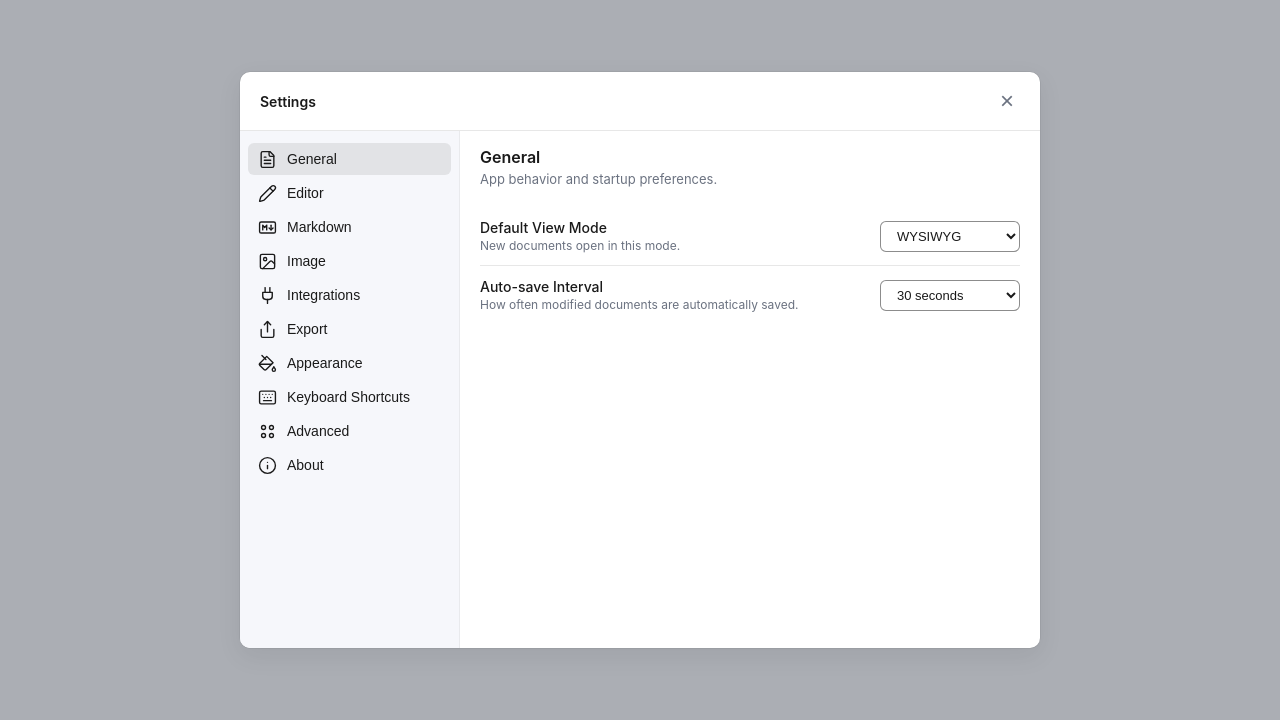
Test: WI-10 the server toggle goes through mcp_set_server_enabled › T-4 config_unreadable reverts the toggle and shows the unreadable note, with no toast
What coordinates should you click on to do the following:
click the button "Integrations"
I would click on:
 (350, 295)
Its box is [248,279,451,311].
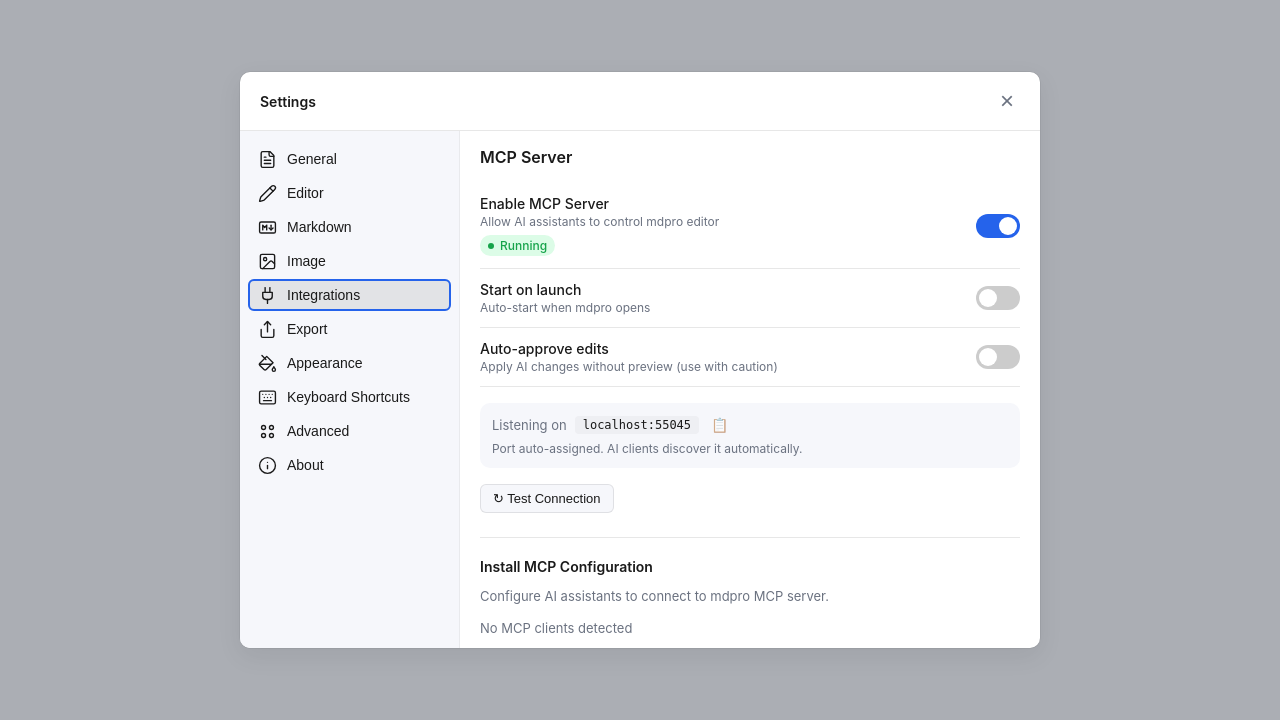
Check: the switch labelled "Enable MCP Server" is enabled
Check: the message "Running" is shown, box [480,235,555,256]
What coordinates should you click on to do the following:
click the switch labelled "Enable MCP Server"
I would click on:
 (998, 226)
Its box is [976,214,1020,238].
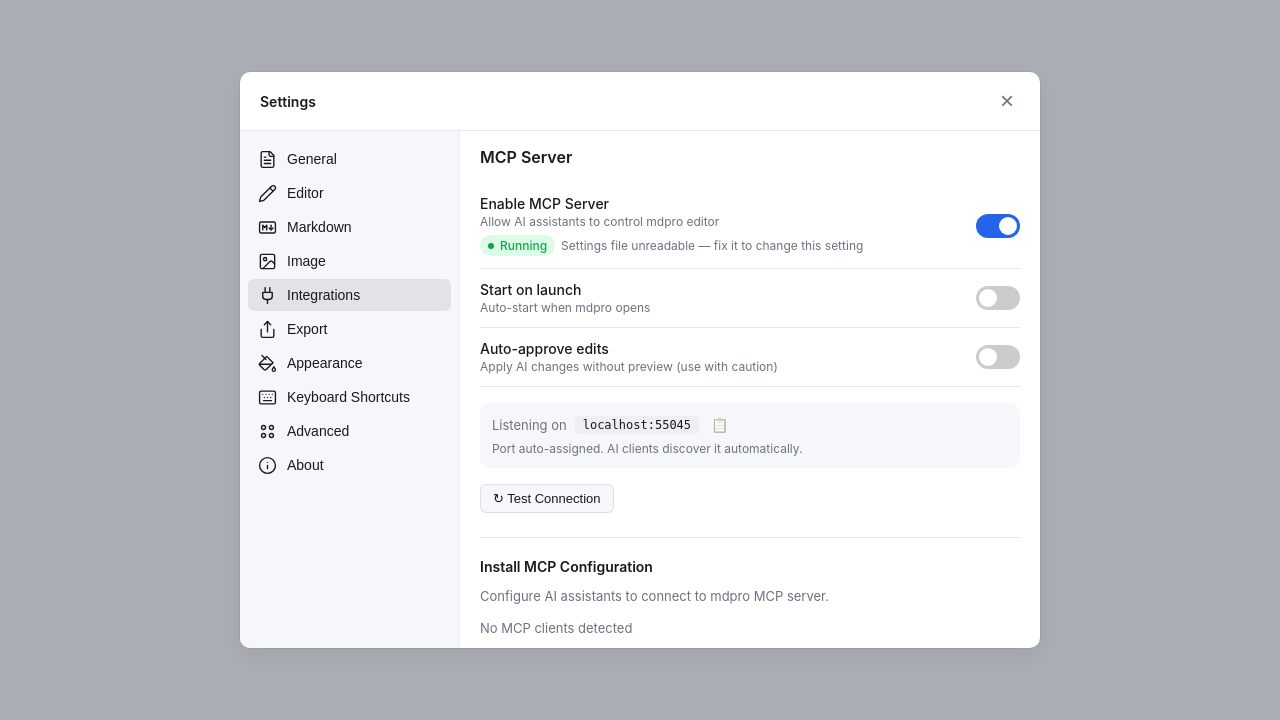
Check: the switch labelled "Enable MCP Server" is checked, box [976,214,1020,238]
Check: the switch labelled "Enable MCP Server" is enabled, box [976,214,1020,238]
Check: the message shows "Settings file unreadable — fix it to change this setting", box [561,238,863,253]
